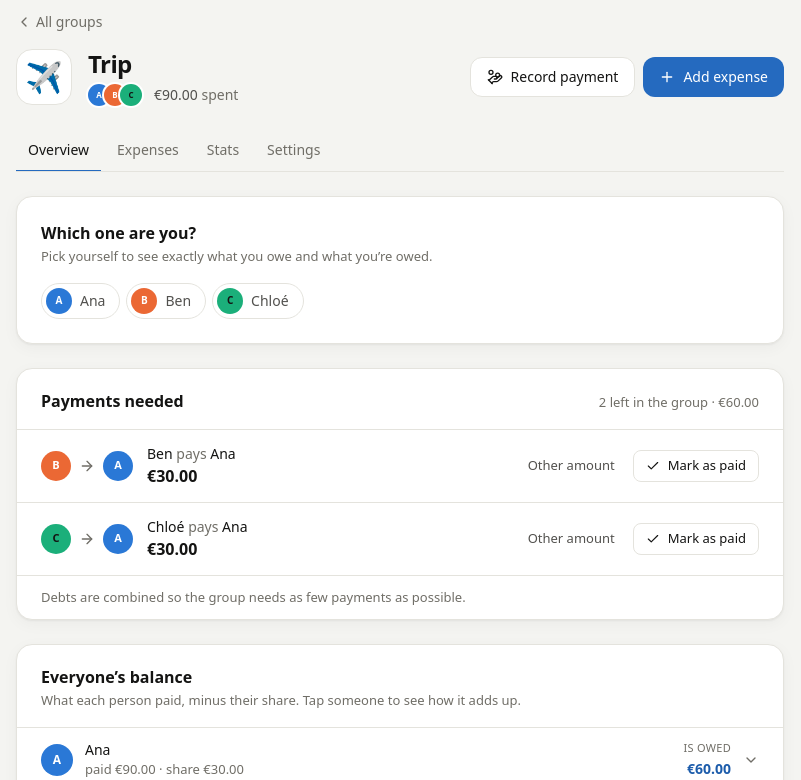
Test: Overview when you owe › asks who you are, then shows who to pay
Click the radio button labelled "B Ben" at (166, 300), box x1=126 y1=282 x2=206 y2=318
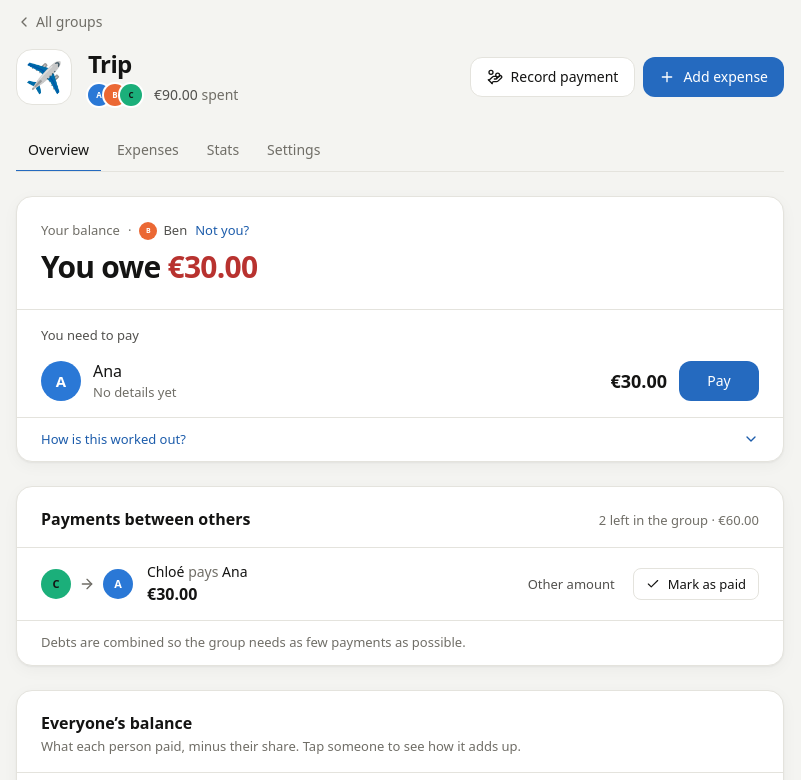
Now the heading "You owe €30.00" is shown, box x1=41 y1=246 x2=257 y2=286
Now the heading "You need to pay" is shown, box x1=41 y1=326 x2=139 y2=344
Now the button with aria-label "Pay Ana €30.00" is shown, box x1=679 y1=361 x2=759 y2=401
